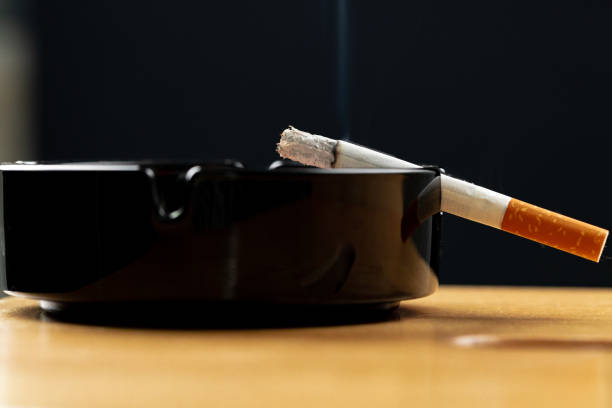cigarette: (275, 125, 609, 263)
